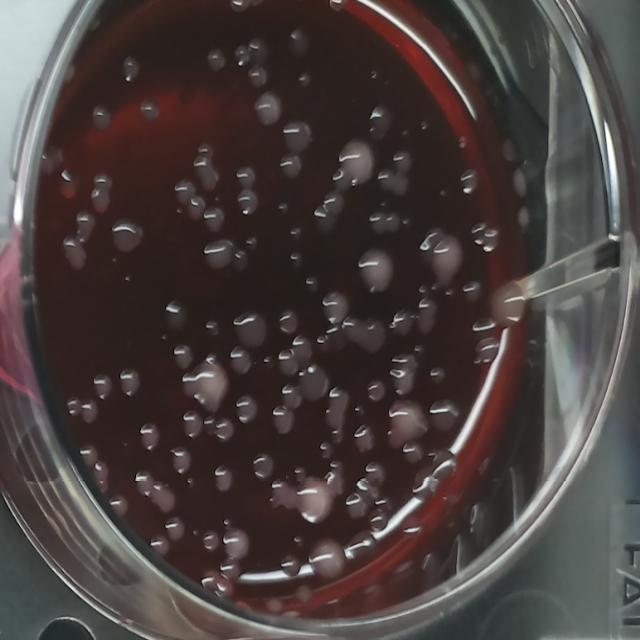Bacillus: (384, 391, 433, 454), (185, 357, 233, 414), (352, 243, 398, 302), (336, 133, 379, 191), (291, 471, 335, 527), (486, 278, 528, 334), (428, 231, 469, 288), (306, 534, 349, 588), (319, 287, 352, 329), (368, 102, 395, 138), (277, 306, 300, 336), (214, 415, 236, 444), (200, 528, 220, 553)
